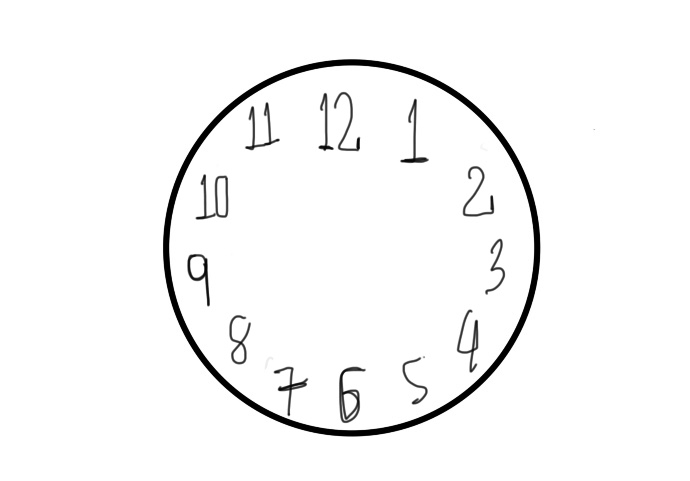eight: (227, 309, 252, 368)
eleven: (246, 102, 281, 152)
five: (399, 355, 430, 408)
four: (455, 308, 480, 375)
nine: (183, 251, 215, 308)
one: (398, 94, 430, 167)
seven: (274, 363, 309, 416)
six: (334, 360, 367, 426)
ten: (195, 173, 232, 220)
three: (482, 233, 508, 297)
twelve: (314, 86, 366, 156)
two: (461, 160, 497, 220)
